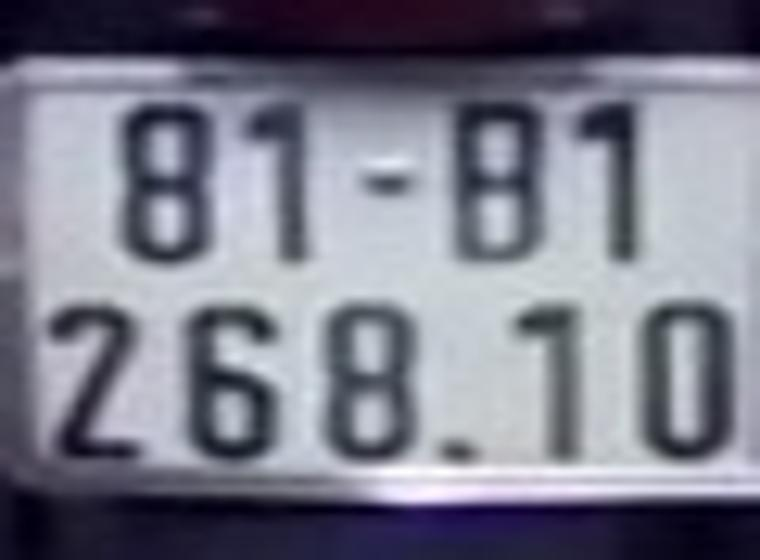-: (347, 156, 420, 211)
.: (432, 433, 486, 469)
0: (627, 290, 745, 473)
1: (566, 91, 659, 277), (506, 292, 596, 468), (235, 90, 321, 274)
2: (44, 296, 150, 472)
6: (177, 299, 281, 473)
8: (108, 87, 220, 276), (312, 299, 425, 468)
B: (444, 90, 551, 271)
